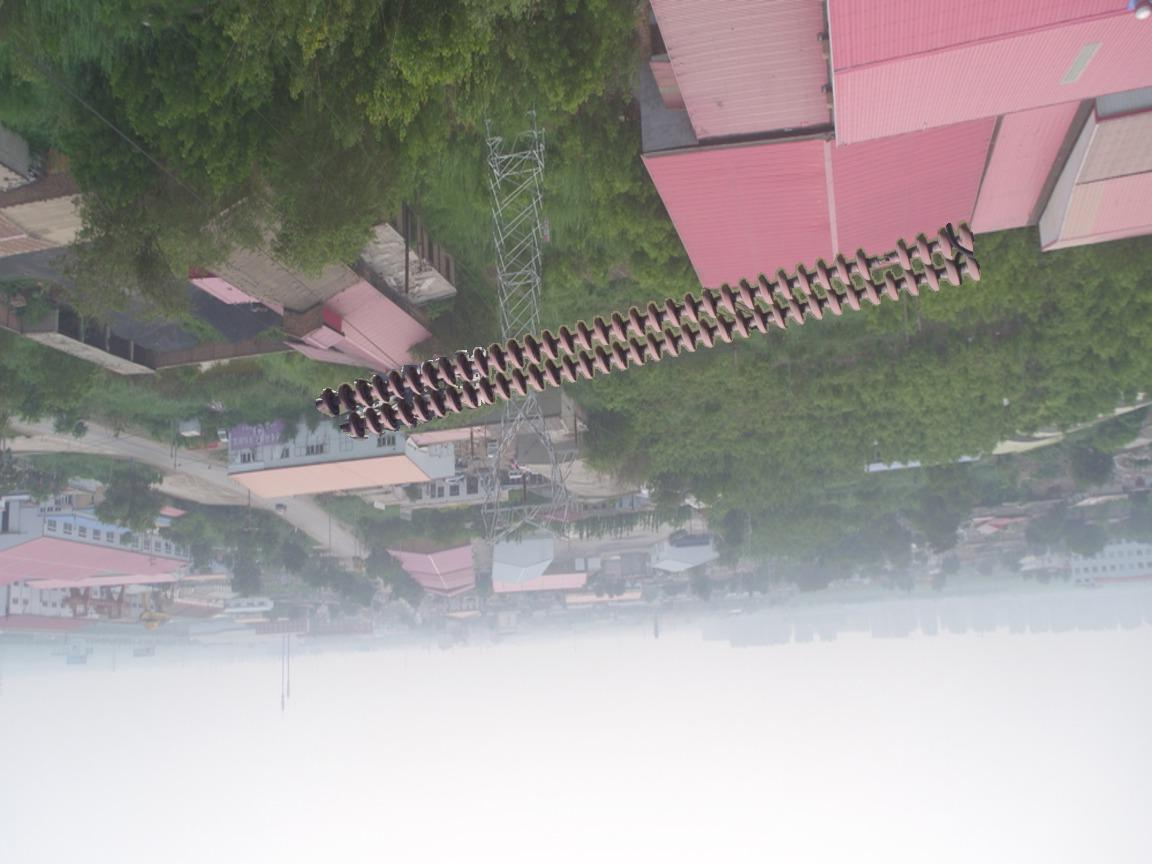insulator: (317, 219, 987, 444)
insulator_stringdrop: (853, 236, 913, 283)
